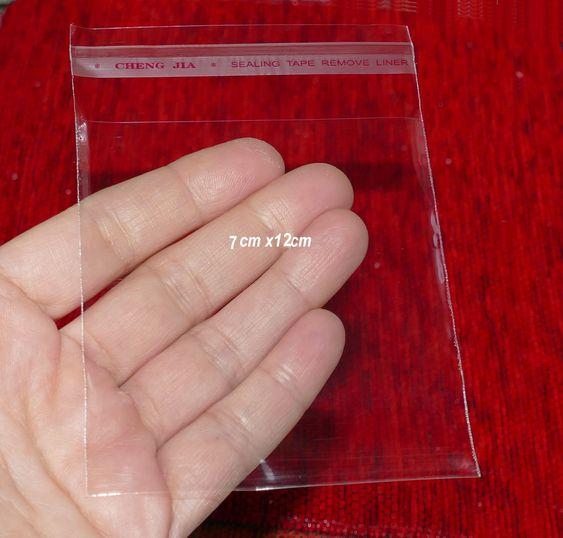LDPE: (100, 24, 429, 481)
